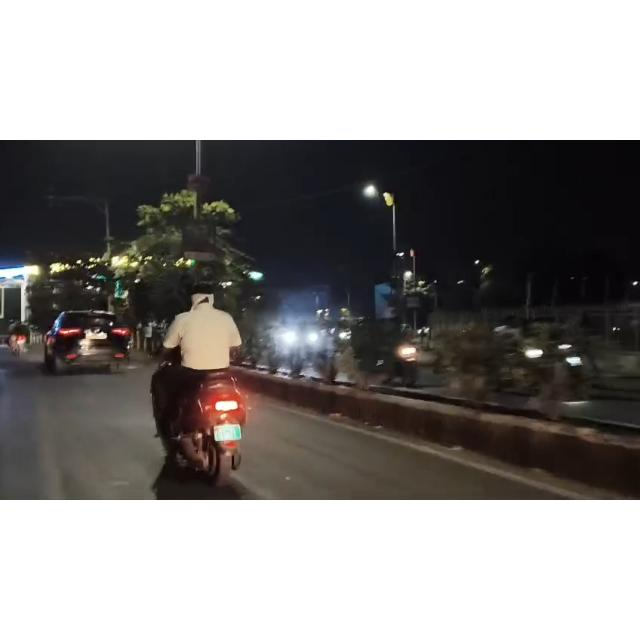car: (40, 304, 141, 381)
